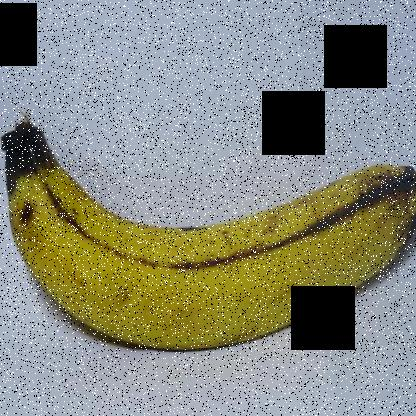ripe: (1, 82, 415, 377)
